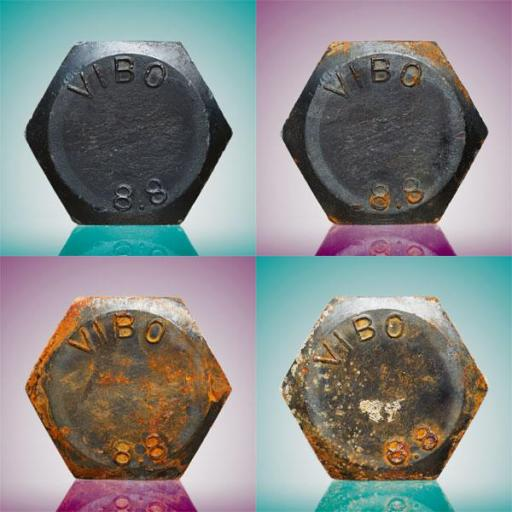segmentation: (26, 296, 230, 511), (281, 297, 487, 480)
